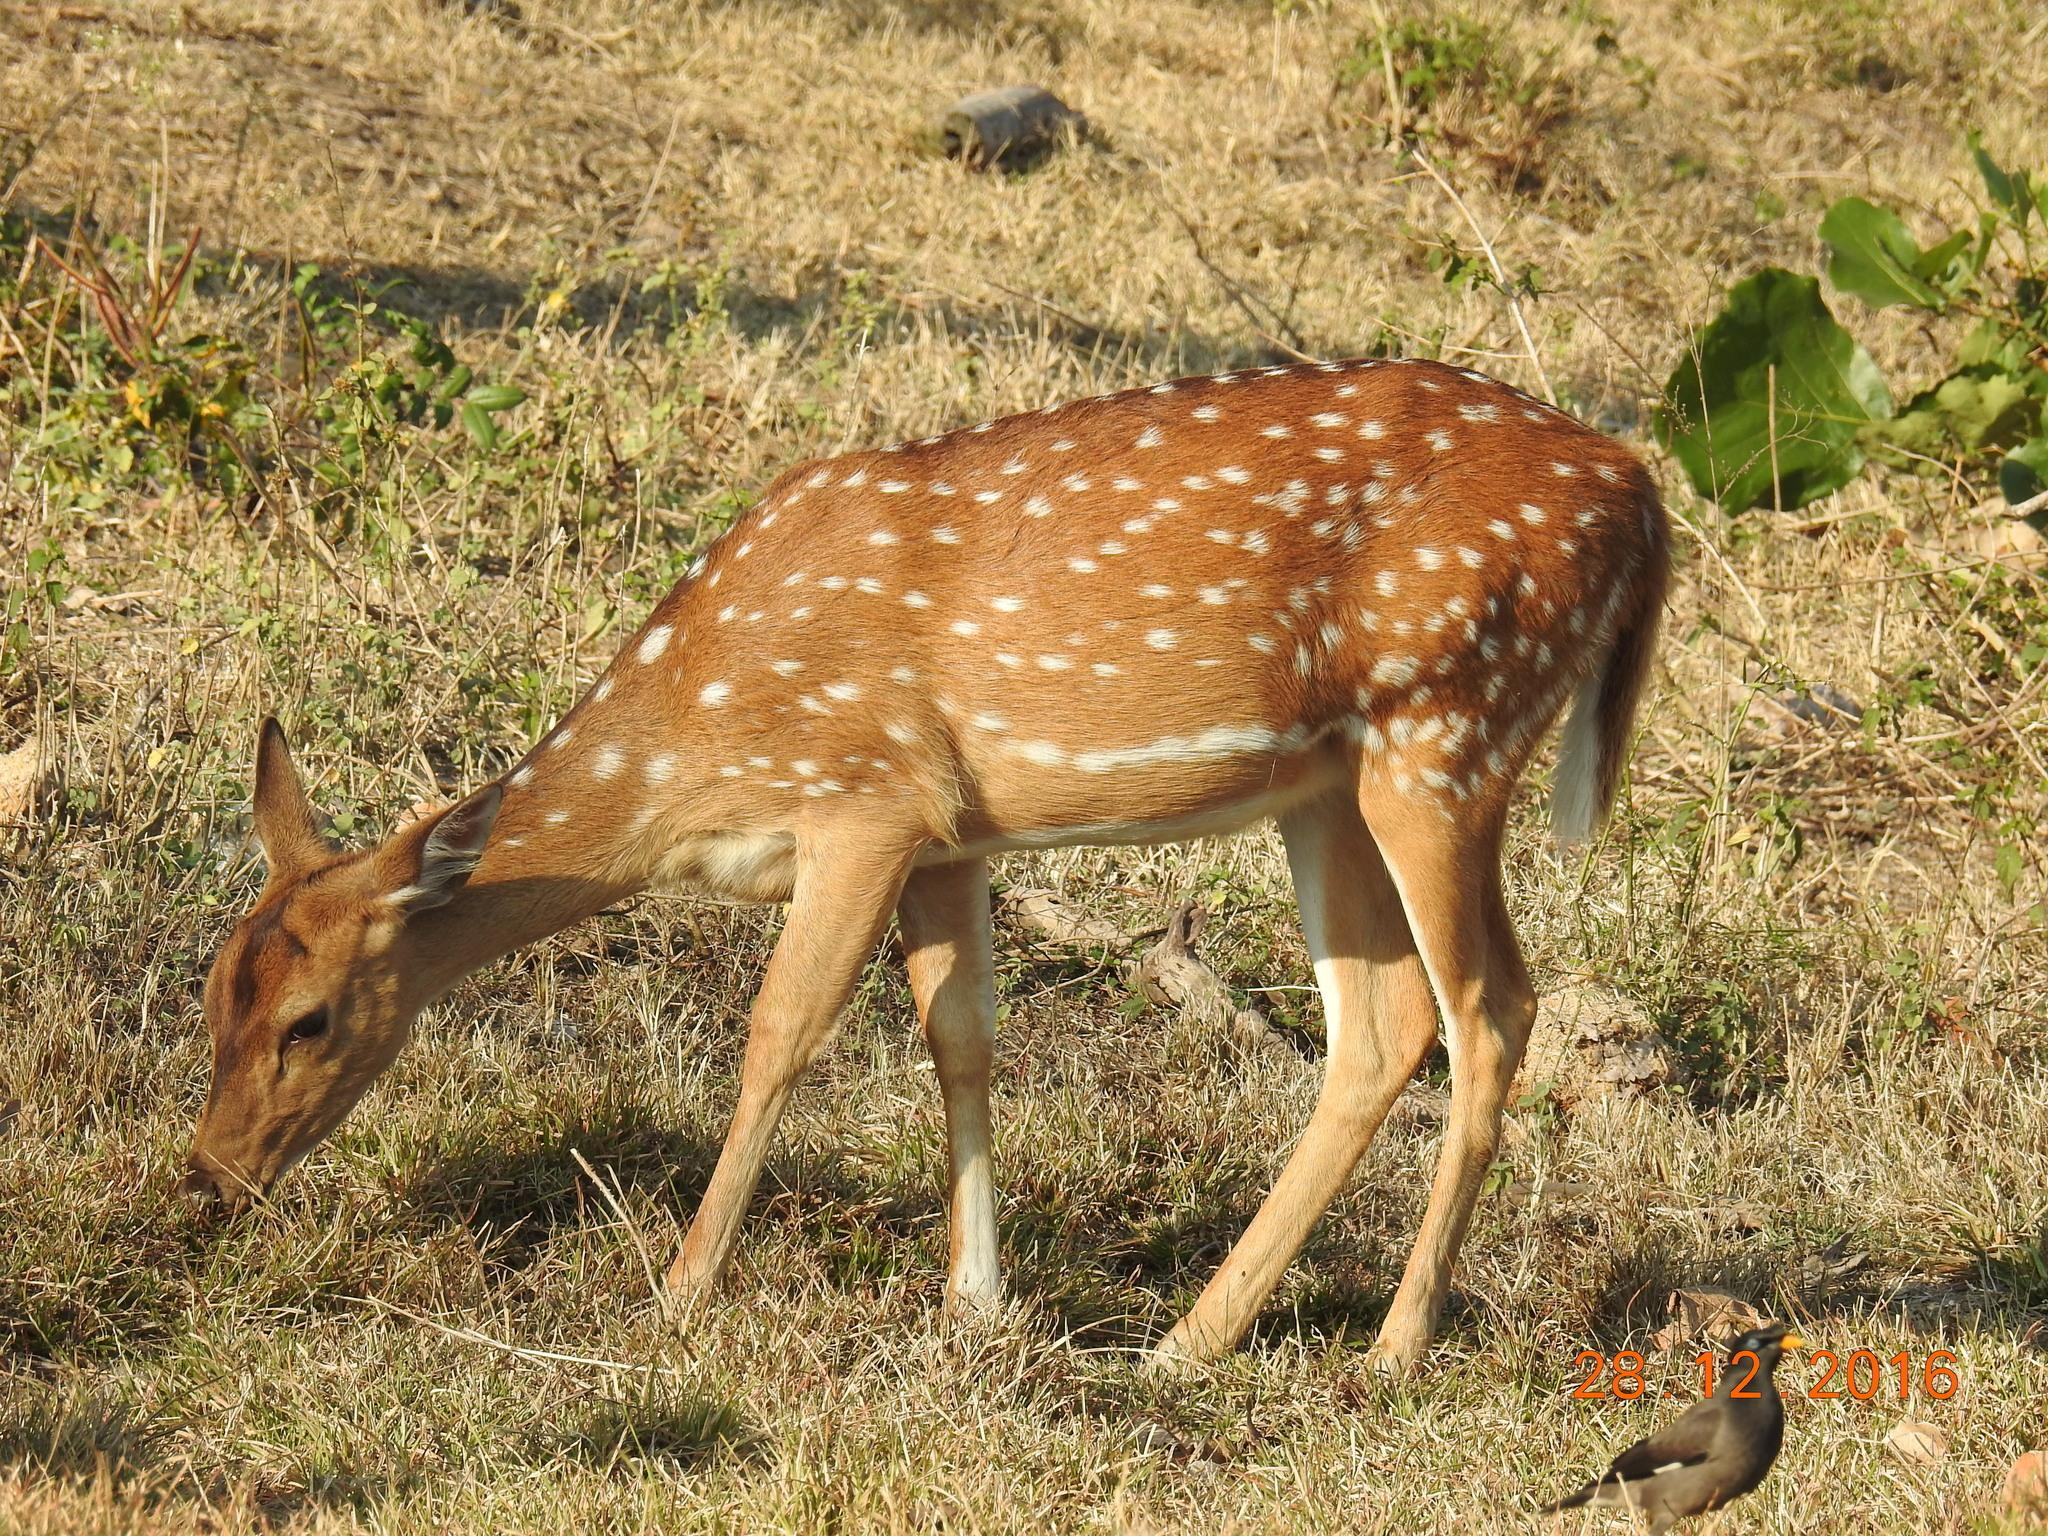Deer: (185, 360, 1667, 1368)
